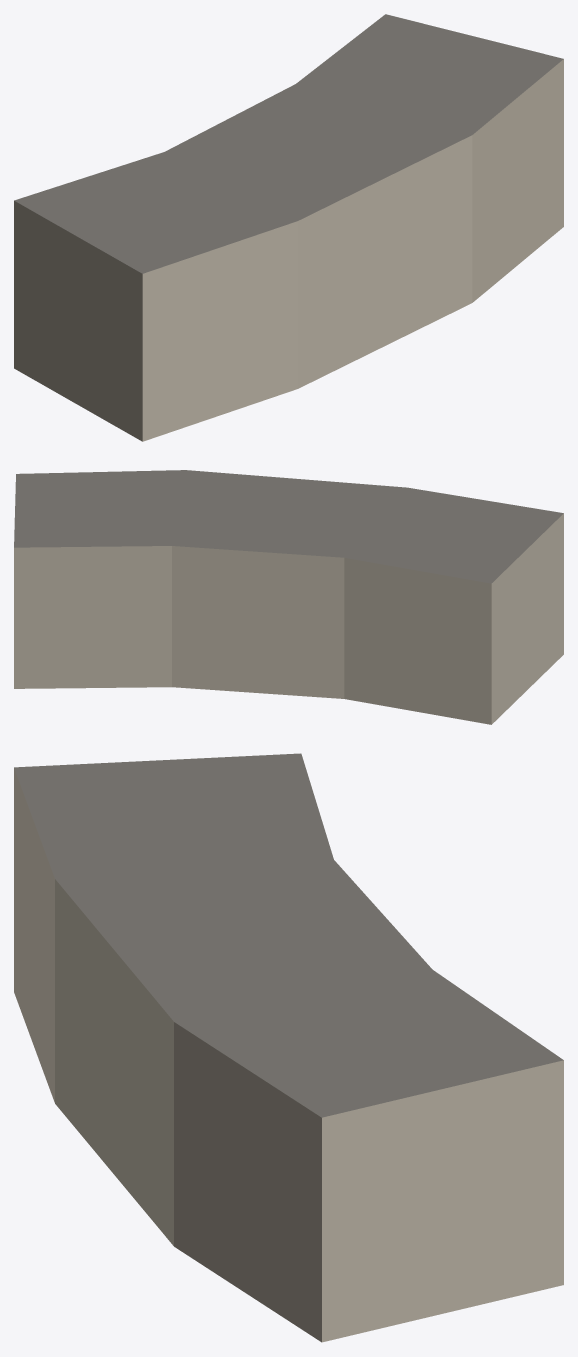
3 renders of one model, top to bottom at view 1: azimuth 30°, elevation 25°; view 2: azimuth 150°, elevation 25°; view 3: azimuth 270°, elevation 25°, orthographic. The views are drawn at different scales.
Visible parts, largest first — view 1: HP-w293563954; view 2: HP-w293563954; view 3: HP-w293563954.
Boxes of the visible parts, x1,y1,x2,y2 form: HP-w293563954: (14,14,563,441); HP-w293563954: (14,470,563,724); HP-w293563954: (14,753,563,1342).
Size of the model in its own units: 62.55 by 18 by 39.91.
